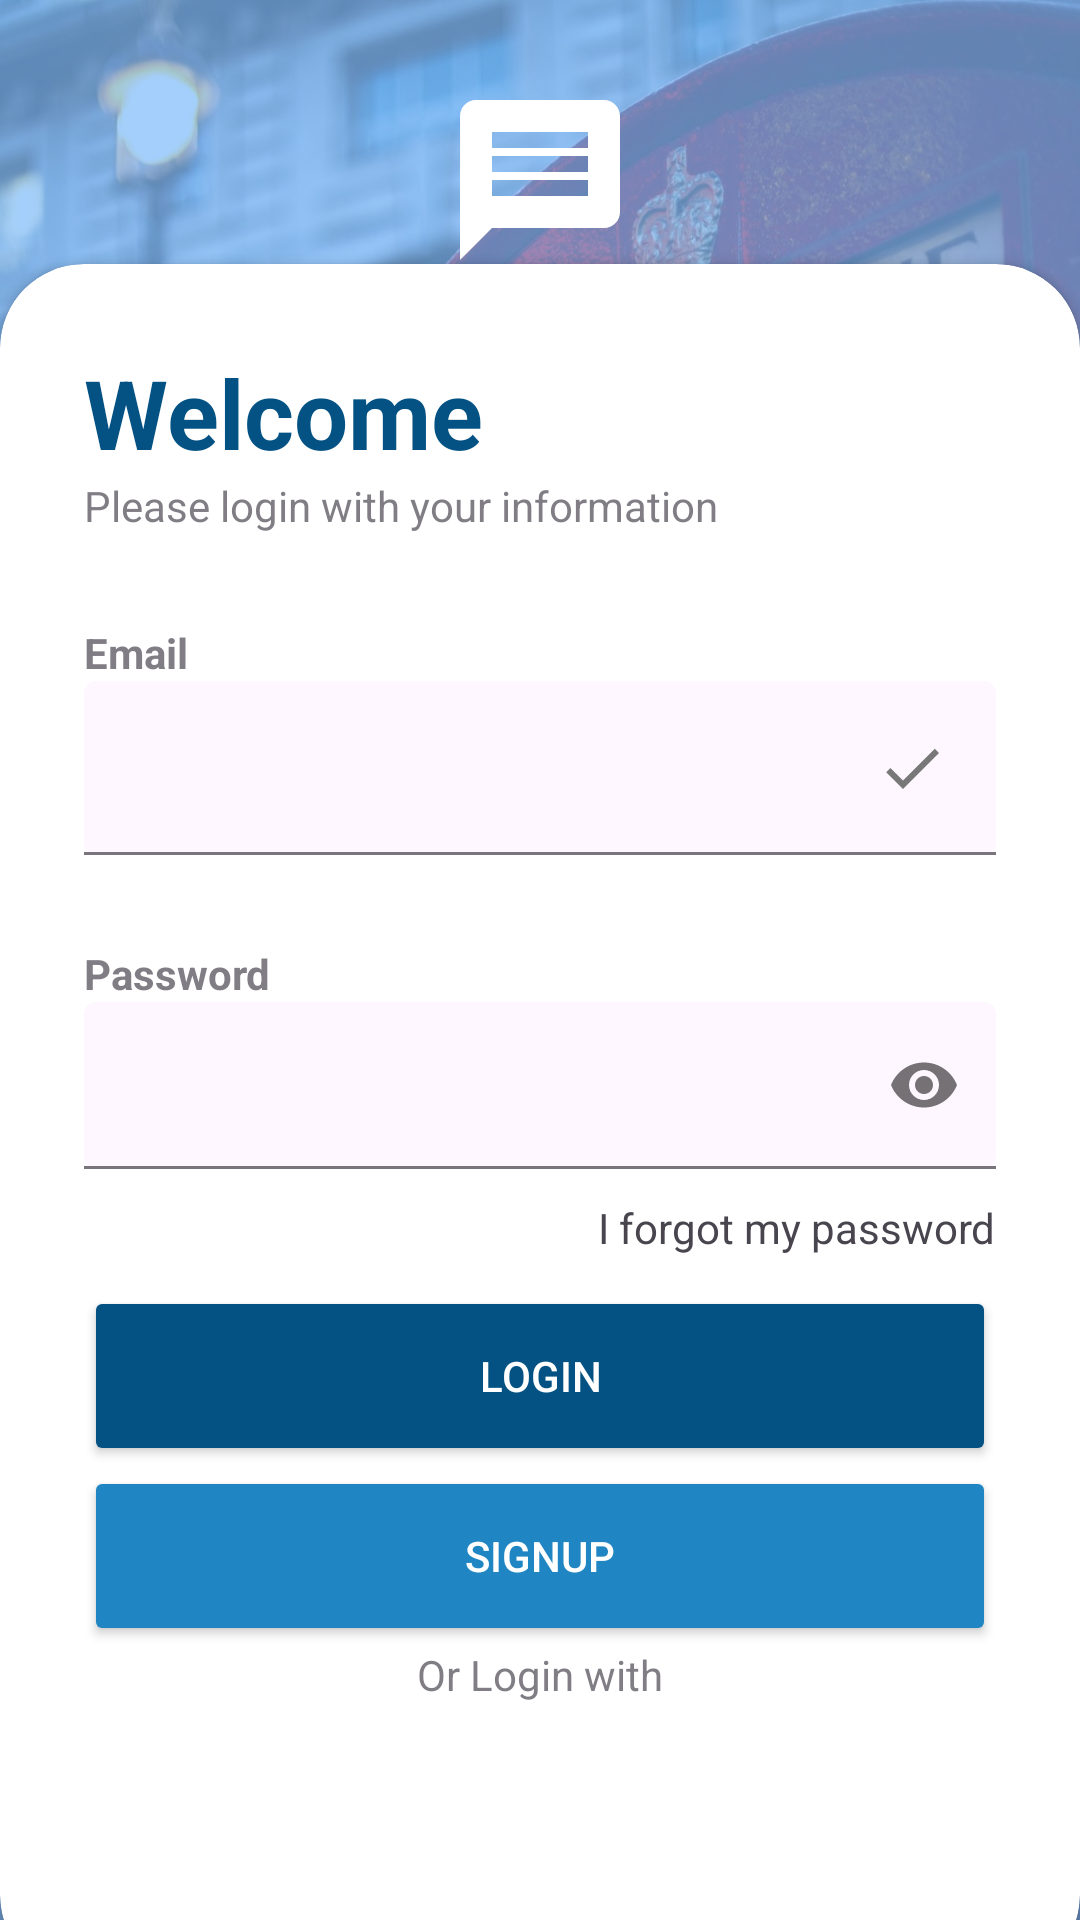

Point at icon controls on the screen. Image size 1080x1920, points as (x=x, y=y).
message: (x=540, y=180)
